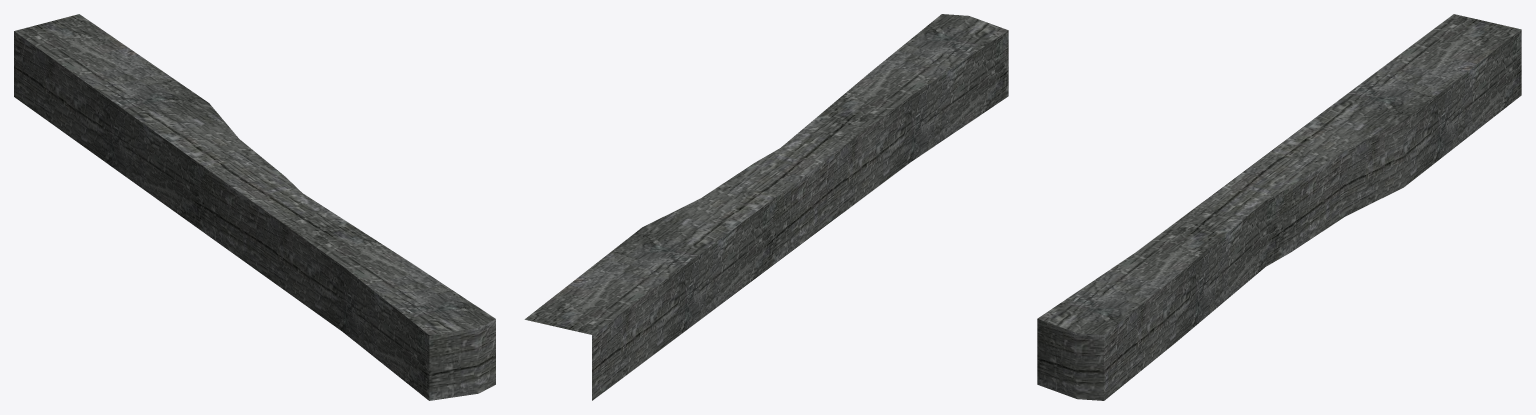
File: caen_fence_post_1.glb
The picture shows the model from 3 angles, left to right: view 1: azimuth 30°, elevation 25°; view 2: azimuth 150°, elevation 25°; view 3: azimuth 330°, elevation 25°; orthographic projection.
Size of the model in its own units: 5.16 by 4.46 by 51.75.
Materials: 1 (1 with a texture image).
